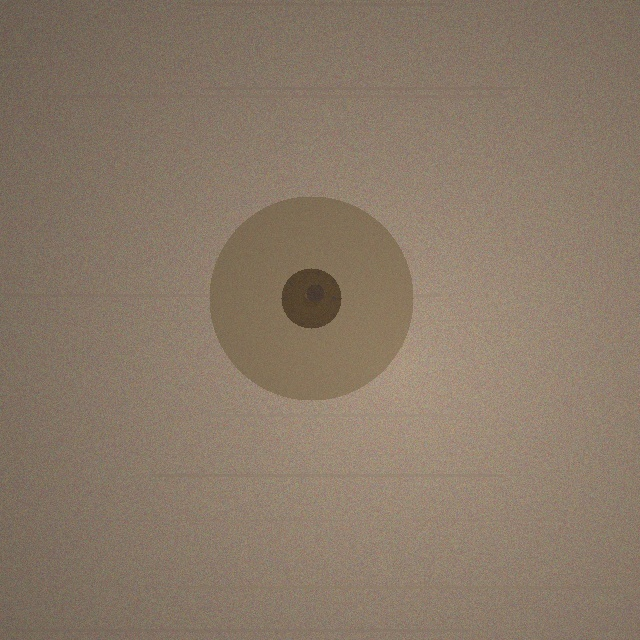cold_weld: (209, 196, 413, 400)
